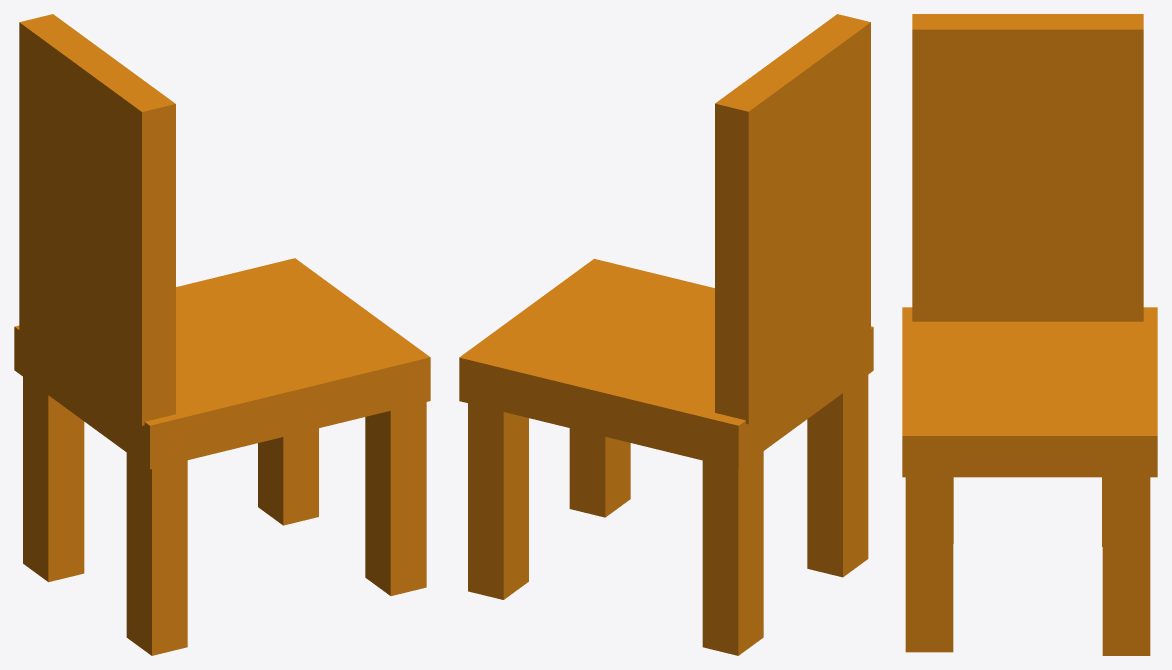
The model's file is chair.glb.
The picture shows the model from 3 angles, left to right: view 1: azimuth 30°, elevation 25°; view 2: azimuth 150°, elevation 25°; view 3: azimuth 270°, elevation 25°; orthographic projection. The views are drawn at different scales.
Visible parts, largest first — view 1: Cube.005; view 2: Cube.005; view 3: Cube.005.
Boxes of the visible parts, left/top/right/bottom form: Cube.005: left=14, top=14, right=430, bottom=655; Cube.005: left=459, top=14, right=873, bottom=655; Cube.005: left=902, top=14, right=1157, bottom=655.
Size of the model in its own units: 2.41 by 4.45 by 2.
